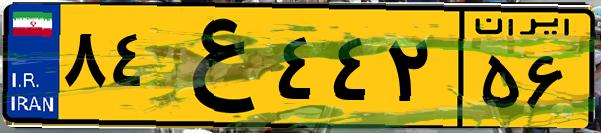2: (385, 28, 445, 110)
4: (270, 28, 330, 110), (330, 28, 385, 110), (110, 28, 158, 98)
5: (475, 38, 525, 113)
6: (525, 38, 570, 115)
8: (57, 26, 110, 100)
ع: (158, 12, 270, 120)
